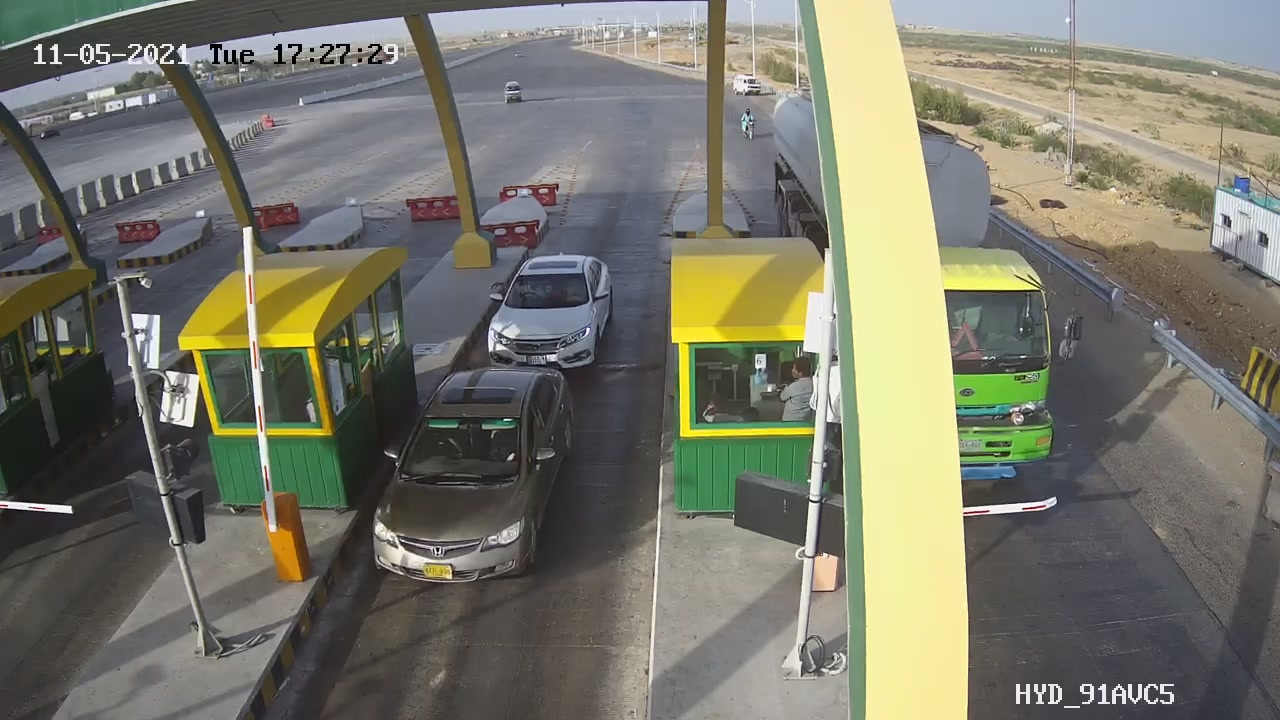F1: (356, 355, 595, 608), (474, 238, 635, 385)
